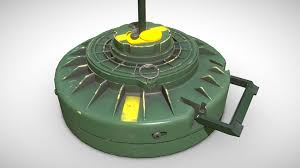car: (34, 0, 261, 161)
